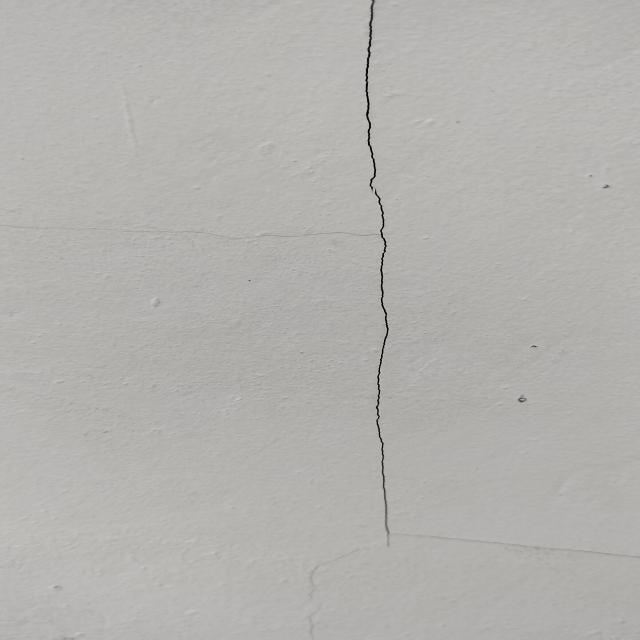Crack: (350, 1, 409, 539)
